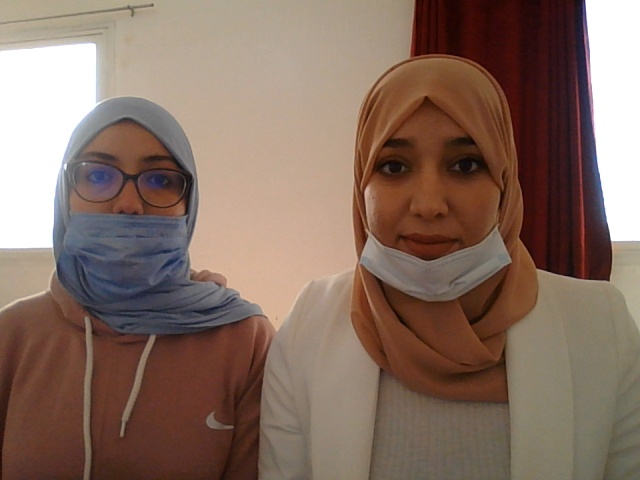mask_weared_incorrect: (346, 74, 518, 288), (58, 124, 192, 311)
